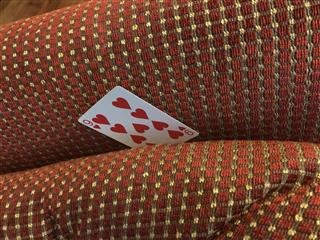NineOfHearts: (76, 84, 199, 149)
